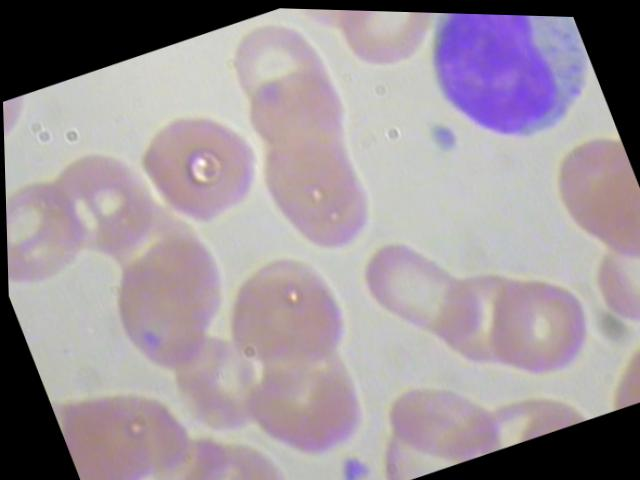Platelets: (417, 108, 466, 157), (326, 439, 375, 479)
Red Blood Cells: (341, 204, 496, 367), (196, 234, 356, 387), (120, 94, 277, 244), (34, 130, 174, 275), (231, 333, 375, 470), (471, 256, 607, 391), (419, 251, 555, 386), (375, 360, 507, 479), (234, 54, 361, 177), (215, 8, 343, 130), (250, 117, 373, 239), (4, 165, 106, 300), (322, 7, 450, 81), (165, 421, 300, 479)
White Blood Cells: (399, 9, 615, 173)
